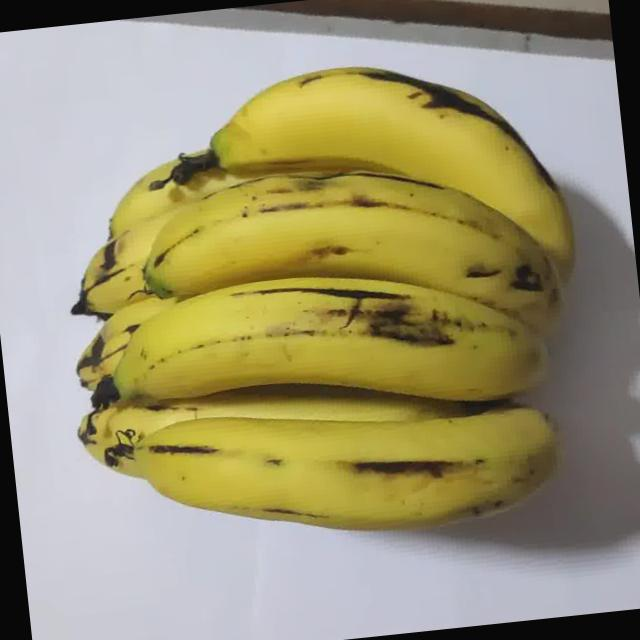banana_pacche: (34, 16, 640, 607)
